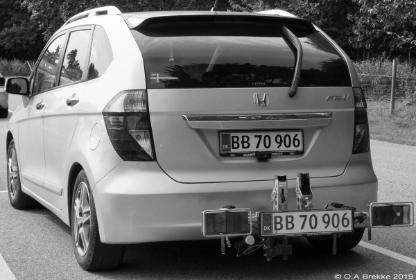license plate: (258, 206, 354, 235), (216, 126, 308, 156)
